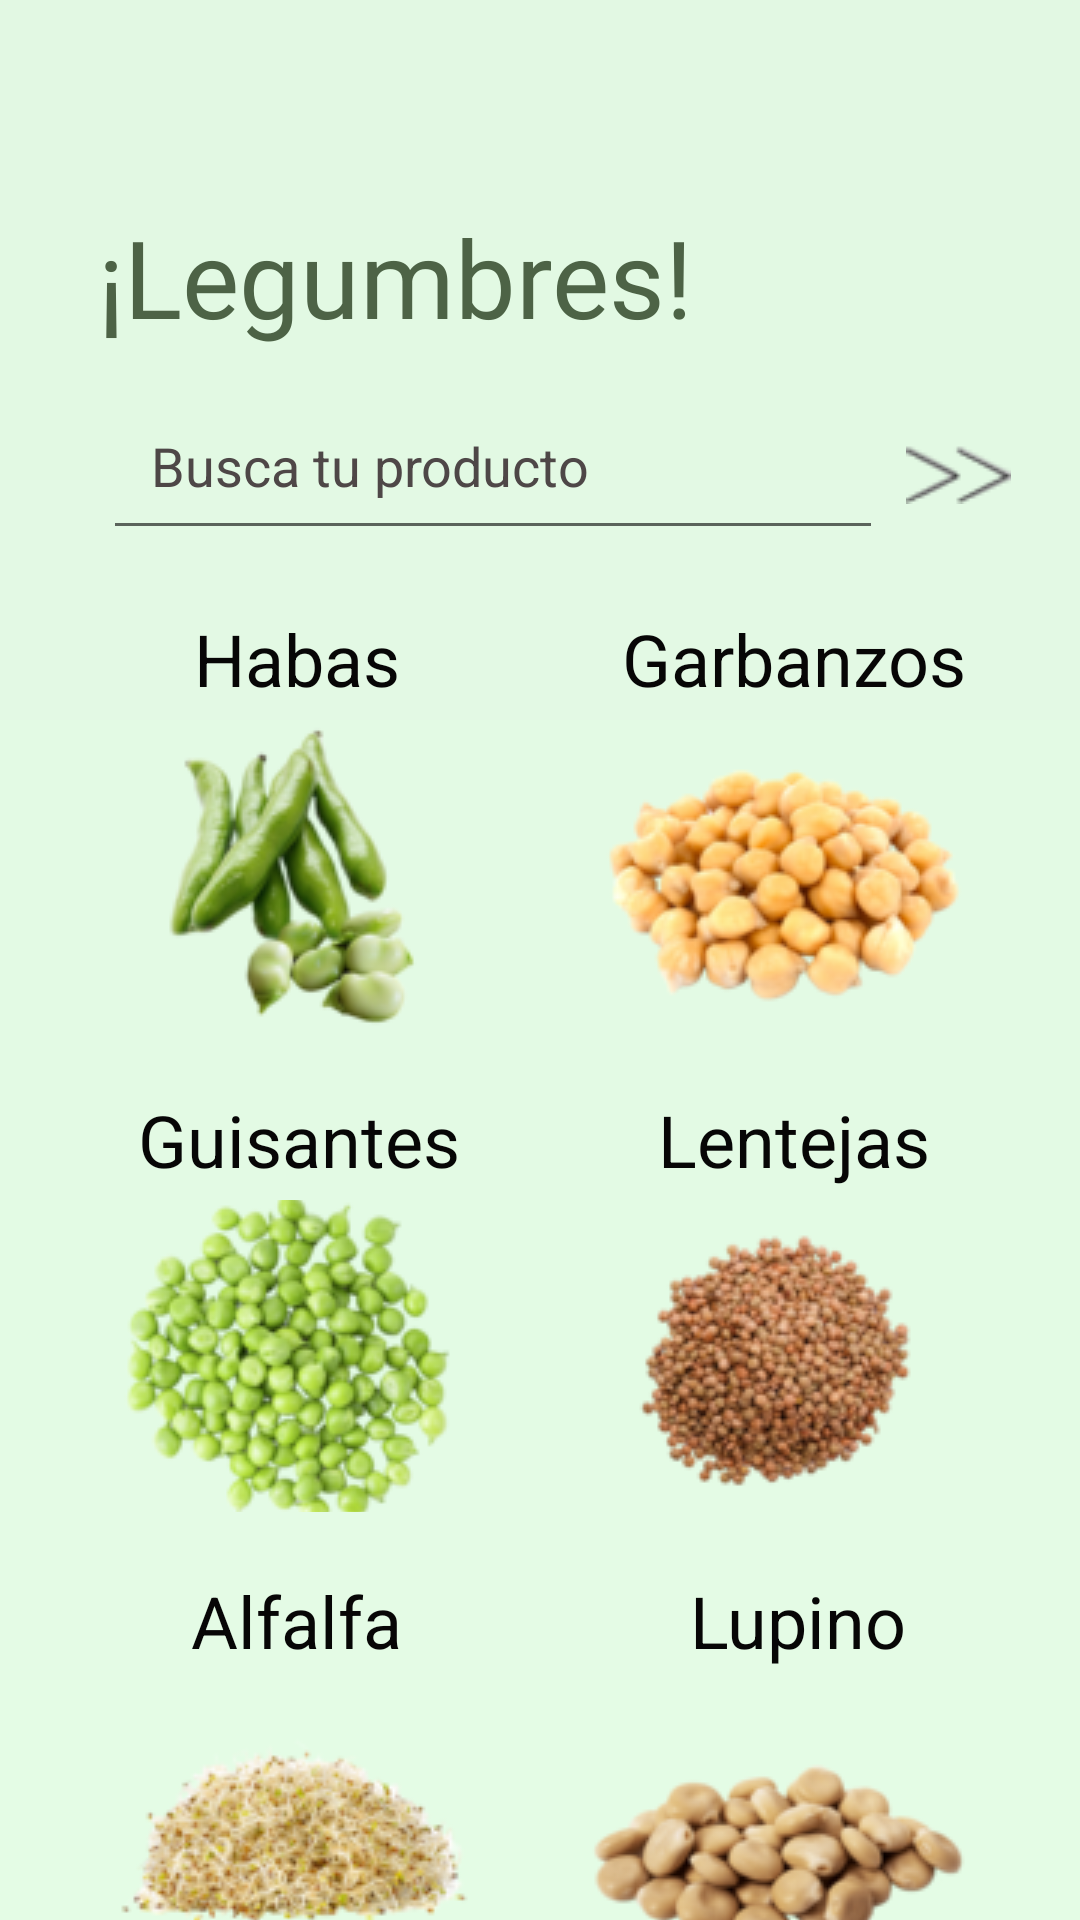

Icons on this 1080px x 1920px Android screen, each with the point to tap as [x,y]:
Boton de flecha: [958,475]
